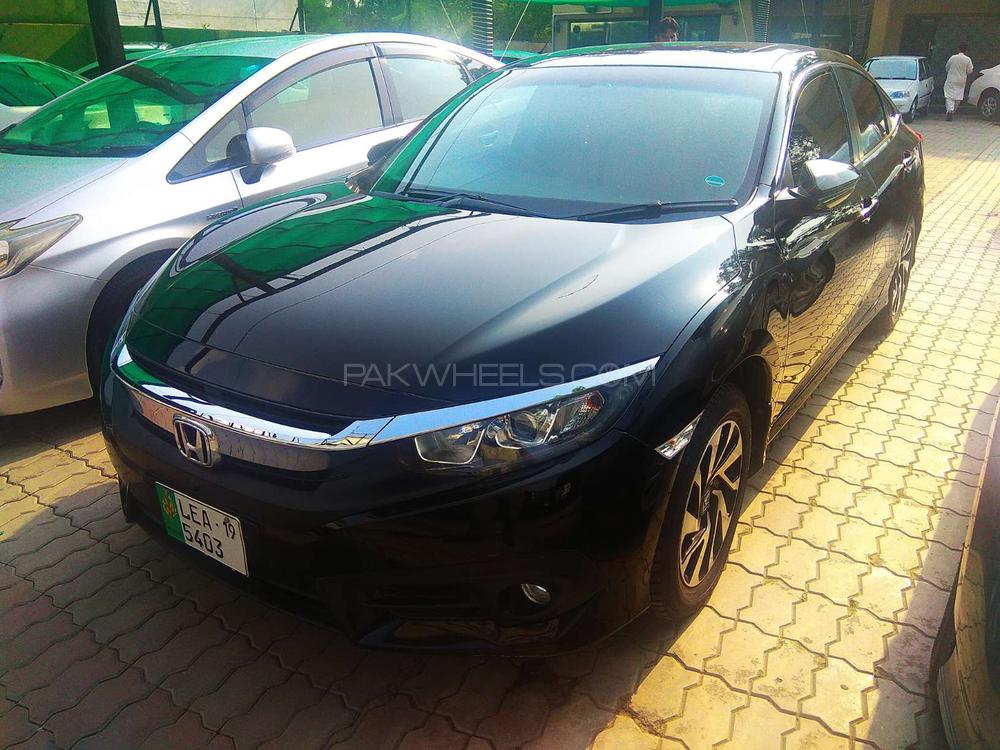license plate: (147, 499, 253, 552)
